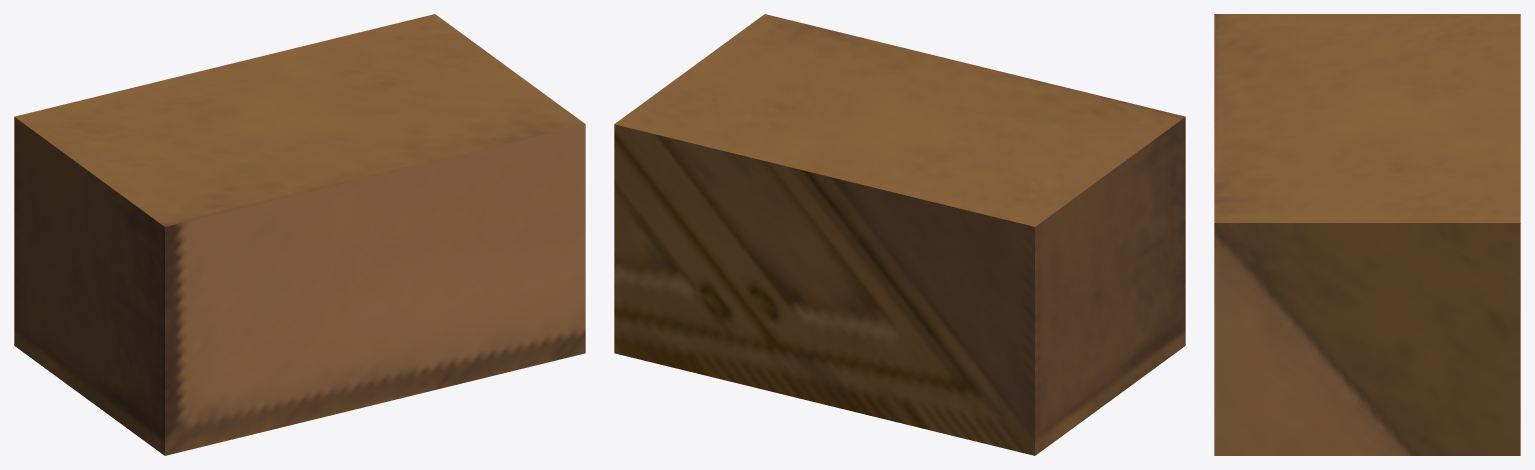
File: pz_counter_trailer_wall.obj
3 views of the same model, side by side, from view 1: azimuth 30°, elevation 25°; view 2: azimuth 150°, elevation 25°; view 3: azimuth 270°, elevation 25° (orthographic).
Parts seen in each view (by area): view 1: pz_counter_trailer_wall; view 2: pz_counter_trailer_wall; view 3: pz_counter_trailer_wall.
Part boxes in pixels (left/top/right/bottom): pz_counter_trailer_wall: left=14, top=14, right=585, bottom=455; pz_counter_trailer_wall: left=614, top=14, right=1185, bottom=455; pz_counter_trailer_wall: left=1214, top=14, right=1520, bottom=455.
Size of the model in its own units: 1 by 0.52 by 0.62.
Materials: 1 (1 with a texture image).
